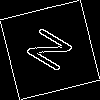N: (25, 25, 82, 80)
